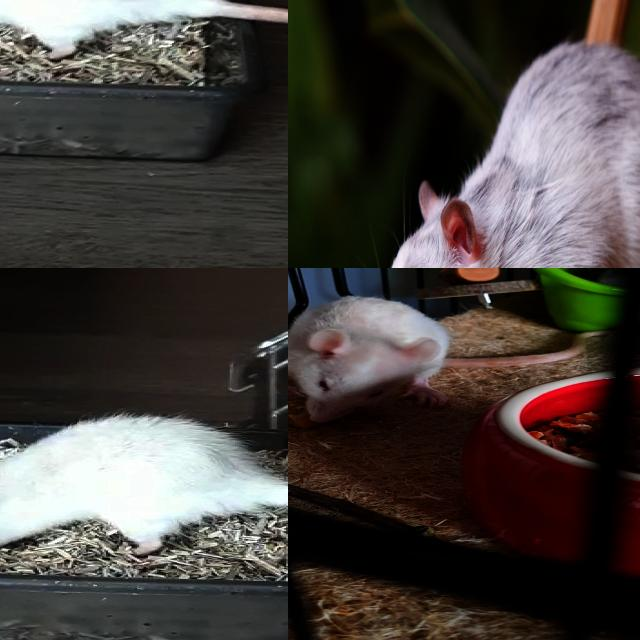rat: (359, 38, 640, 268), (0, 413, 280, 551), (288, 297, 445, 430), (0, 0, 195, 59)
